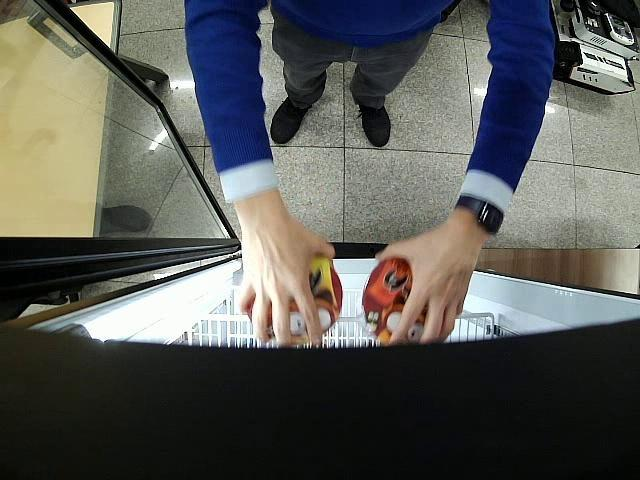05_nuguri_L: (248, 254, 344, 338), (362, 256, 428, 346)
